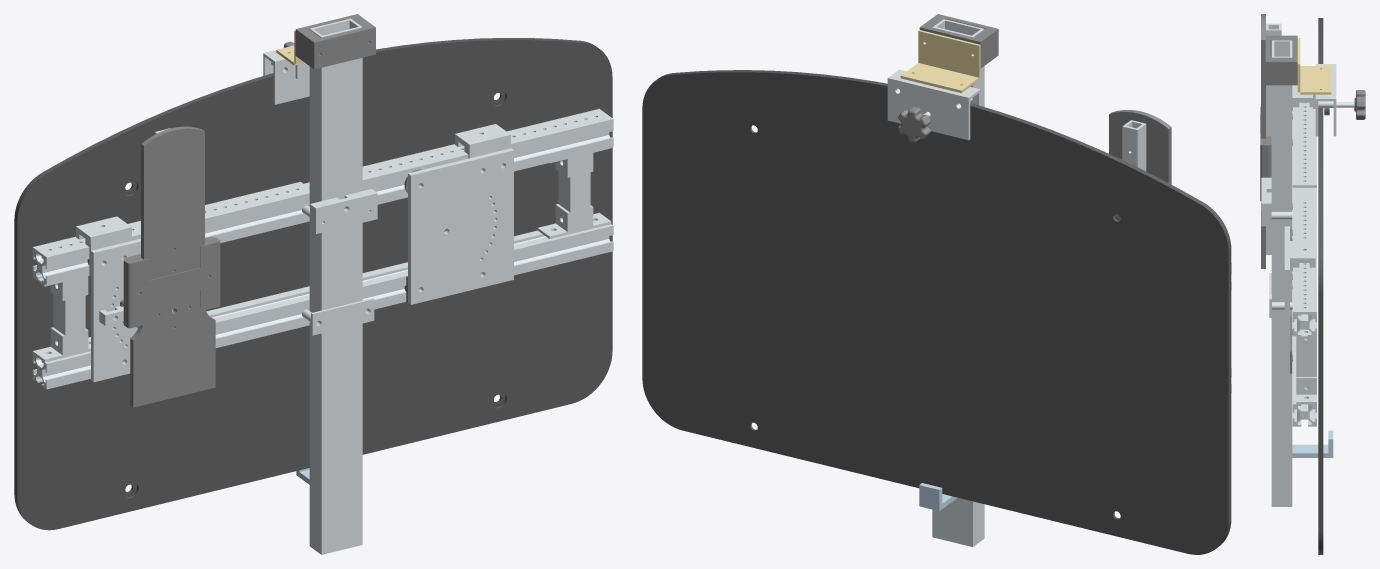
3 views of the same model, side by side, from view 1: azimuth 30°, elevation 25°; view 2: azimuth 150°, elevation 25°; view 3: azimuth 270°, elevation 25° (orthographic). The views are drawn at different scales.
Visible parts, largest first — view 1: Part 1, Part 1.009, Part 1.062, Part 1.042, Part 1.037, Part 1.057, Part 1.029, Part 1.065, Part 1.043, Part 1.006, Part 1.041, Part 1.028 (+6 smaller); view 2: Part 1, Part 1.007, Part 1.009, Part 1.062, Part 1.011, Part 1.006, Part 1.004, Part 1.063, Part 1.010; view 3: Part 1.009, Part 1, Part 1.043, Part 1.041, Part 1.006, Part 1.042, Part 1.004, Part 1.037, Part 1.062, Part 1.057, Part 1.044, Part 1.063 (+12 smaller).
Boxes of the visible parts, left/top/right/bottom form: Part 1: left=14, top=38, right=612, bottom=530; Part 1.009: left=309, top=18, right=362, bottom=554; Part 1.062: left=130, top=126, right=215, bottom=407; Part 1.042: left=408, top=148, right=513, bottom=304; Part 1.037: left=32, top=224, right=613, bottom=389; Part 1.057: left=32, top=122, right=613, bottom=285; Part 1.029: left=91, top=238, right=140, bottom=382; Part 1.065: left=123, top=237, right=220, bottom=328; Part 1.043: left=362, top=109, right=613, bottom=182; Part 1.006: left=295, top=14, right=375, bottom=69; Part 1.041: left=32, top=182, right=309, bottom=259; Part 1.028: left=310, top=189, right=377, bottom=233; Part 1: left=642, top=70, right=1231, bottom=554; Part 1.007: left=887, top=69, right=980, bottom=140; Part 1.009: left=932, top=19, right=984, bottom=546; Part 1.062: left=1109, top=110, right=1171, bottom=220; Part 1.011: left=918, top=30, right=980, bottom=77; Part 1.006: left=919, top=14, right=998, bottom=68; Part 1.004: left=900, top=63, right=979, bottom=92; Part 1.063: left=1122, top=120, right=1146, bottom=171; Part 1.010: left=898, top=106, right=930, bottom=142; Part 1.009: left=1271, top=40, right=1292, bottom=506; Part 1: left=1318, top=18, right=1323, bottom=554; Part 1.043: left=1292, top=198, right=1316, bottom=314; Part 1.041: left=1292, top=102, right=1316, bottom=187; Part 1.006: left=1265, top=35, right=1297, bottom=85; Part 1.042: left=1284, top=226, right=1289, bottom=382; Part 1.004: left=1300, top=66, right=1331, bottom=94; Part 1.037: left=1292, top=336, right=1316, bottom=426; Part 1.062: left=1261, top=14, right=1265, bottom=268; Part 1.057: left=1292, top=187, right=1316, bottom=336; Part 1.044: left=1290, top=241, right=1315, bottom=292; Part 1.063: left=1266, top=23, right=1281, bottom=254.
Size of the model in its own units: 4.33 by 3.6 by 0.7669.
